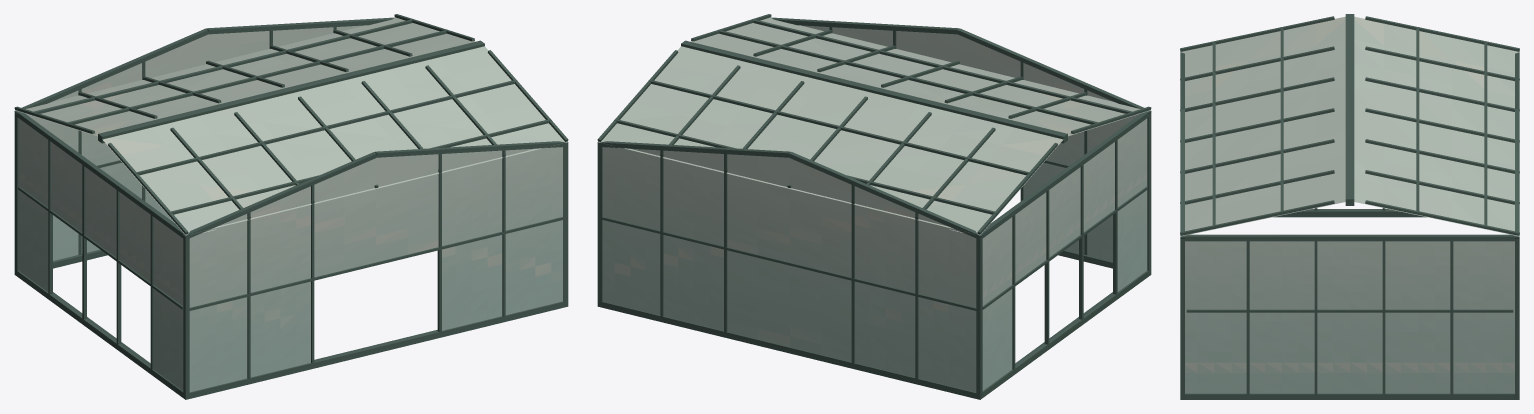
Rendered from greenhouse.m1.glb.
3 views of the same model, side by side, from view 1: azimuth 30°, elevation 25°; view 2: azimuth 150°, elevation 25°; view 3: azimuth 270°, elevation 25° (orthographic).
Visible parts, largest first — view 1: glass_panels, greenhouse_frame; view 2: glass_panels, greenhouse_frame; view 3: glass_panels, greenhouse_frame.
Boxes of the visible parts, left/top/right/bottom form: glass_panels: left=15, top=17, right=567, bottom=392; greenhouse_frame: left=14, top=14, right=568, bottom=399; glass_panels: left=598, top=17, right=1150, bottom=392; greenhouse_frame: left=597, top=14, right=1151, bottom=399; glass_panels: left=1180, top=16, right=1519, bottom=393; greenhouse_frame: left=1180, top=14, right=1519, bottom=399.
Size of the model in its own units: 8.42 by 4.24 by 6.51.
